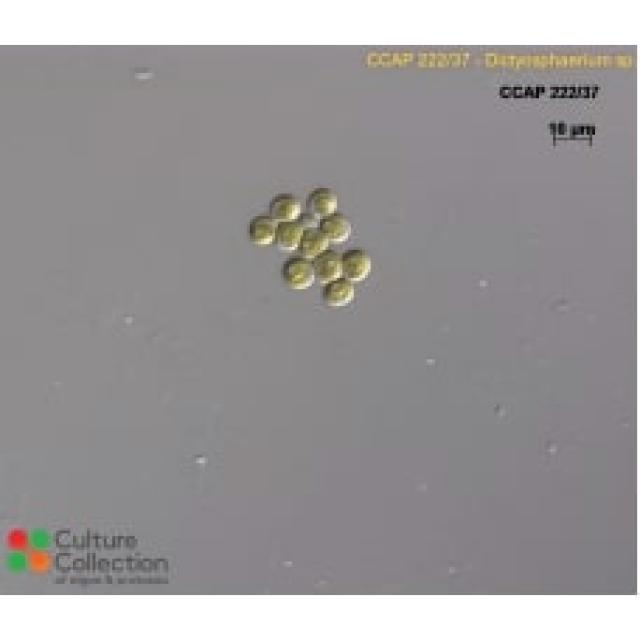Green Algae: (284, 253, 314, 292), (323, 278, 356, 311), (342, 247, 373, 281), (306, 185, 337, 216), (300, 224, 326, 256), (322, 213, 353, 239), (275, 222, 300, 252), (272, 191, 298, 219), (250, 216, 272, 247), (314, 252, 337, 280)
